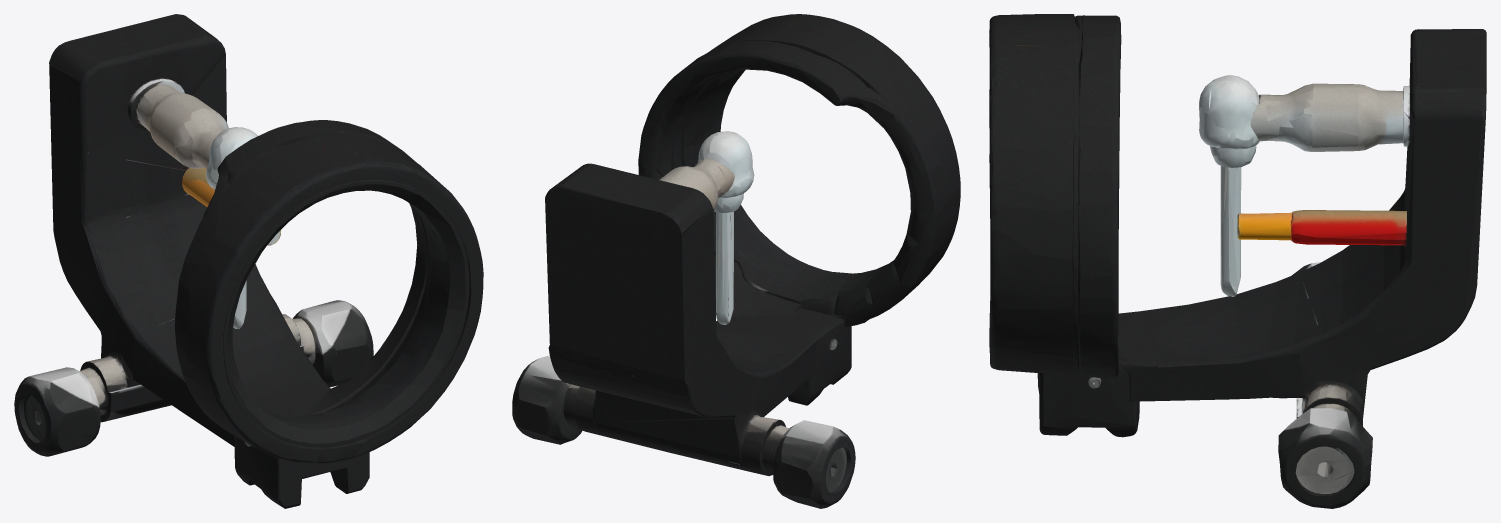
File: bow-sight.glb
3 views of the same model, side by side, from view 1: azimuth 30°, elevation 25°; view 2: azimuth 150°, elevation 25°; view 3: azimuth 270°, elevation 25° (orthographic). The views are drawn at different scales.
Bounding box in the file's own units: 1.56 × 1.67 × 1.9.
Materials: 1 (1 with a texture image).
